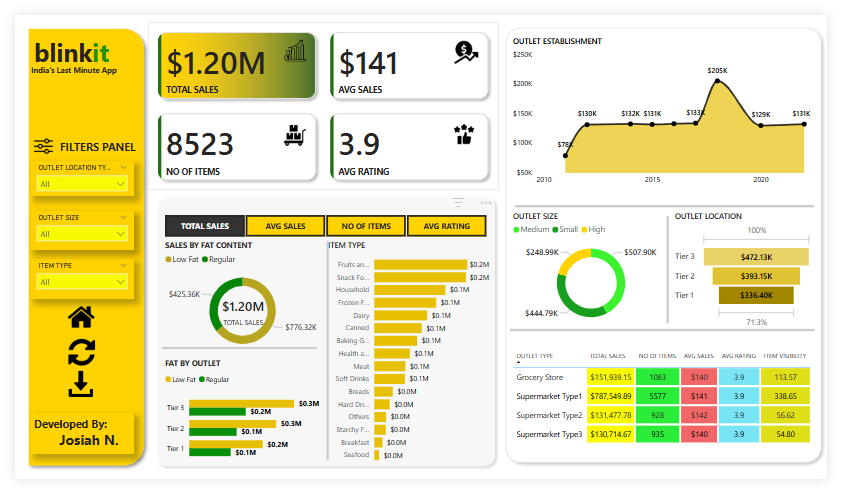

What the dashboard file says about the page in this screenshot:
{"tool":"powerbi","page":{"name":"Page 1","canvas":[1400,800],"ordinal":0},"visuals":[{"type":"shape","box":[11.2,11.2,221.7,775.9],"z":0},{"type":"textbox","box":[27.3,28.9,154.2,67.5],"z":1},{"type":"textbox","box":[22.5,80.3,171.9,32.1],"z":2},{"type":"cardVisual","fields":{"Data":["BlinkIT Grocery Data.TOTAL SALES","BlinkIT Grocery Data.AVG SALES","BlinkIT Grocery Data.NO OF ITEMS","BlinkIT Grocery Data.AVG RATING"]},"box":[229.7,11.2,604,290.8],"z":3},{"type":"shape","box":[232.9,302,604,485.1],"z":4},{"type":"donutChart","title":"SALES BY FAT CONTENT","fields":{"Category":["BlinkIT Grocery Data.Item Fat Content"],"Y":["BlinkIT Grocery Data.TOTAL SALES"]},"box":[253.8,388.8,277.9,202.4],"z":5},{"type":"slicer","fields":{"Values":["Metrics.Metrics"]},"box":[232.9,337.3,604,51.4],"z":6},{"type":"card","fields":{"Values":["BlinkIT Grocery Data.TOTAL SALES"]},"box":[327.7,475.5,131.7,69.1],"z":7},{"type":"clusteredBarChart","title":"FAT BY OUTLET","fields":{"Category":["BlinkIT Grocery Data.Outlet Location Type"],"Series":["BlinkIT Grocery Data.Item Fat Content"],"Y":["BlinkIT Grocery Data.TOTAL SALES"]},"box":[253.8,591.2,277.9,189.6],"z":8},{"type":"barChart","title":"ITEM TYPE","fields":{"Category":["BlinkIT Grocery Data.Item Type"],"Y":["BlinkIT Grocery Data.TOTAL SALES"]},"box":[534.9,387.1,287.6,393.6],"z":9},{"type":"shape","box":[836.9,11.2,563.9,769.5],"z":10},{"type":"lineChart","title":"OUTLET ESTABLISHMENT","fields":{"Y":["BlinkIT Grocery Data.TOTAL SALES"],"Category":["BlinkIT Grocery Data.Outlet Establishment Year"]},"box":[853,36.9,525.3,265.1],"z":11},{"type":"donutChart","title":"OUTLET SIZE","fields":{"Category":["BlinkIT Grocery Data.Outlet Size"],"Y":["BlinkIT Grocery Data.TOTAL SALES"]},"box":[853,337.3,279.5,207.2],"z":12},{"type":"funnel","title":"OUTLET LOCATION","fields":{"Category":["BlinkIT Grocery Data.Outlet Location Type"],"Y":["BlinkIT Grocery Data.TOTAL SALES"]},"box":[1132.5,337.3,245.8,207.2],"z":13},{"type":"tableEx","fields":{"Values":["BlinkIT Grocery Data.Outlet Type","BlinkIT Grocery Data.TOTAL SALES","BlinkIT Grocery Data.NO OF ITEMS","BlinkIT Grocery Data.AVG SALES","BlinkIT Grocery Data.AVG RATING","Sum(BlinkIT Grocery Data.Item Visibility)"]},"box":[853,568.7,525.3,188],"z":14},{"type":"slicer","fields":{"Values":["BlinkIT Grocery Data.Outlet Location Type"]},"box":[27.3,252.2,176.7,61],"z":15},{"type":"slicer","fields":{"Values":["BlinkIT Grocery Data.Outlet Size"]},"box":[27.3,337.3,176.7,67.5],"z":16},{"type":"slicer","fields":{"Values":["BlinkIT Grocery Data.Item Type"]},"box":[27.3,420.9,176.7,69.1],"z":17},{"type":"textbox","box":[72.3,208.8,146.2,43.4],"z":18},{"type":"image","box":[459.4,38.6,48.2,46.6],"z":19},{"type":"image","box":[751.8,38.6,53,51.4],"z":20},{"type":"image","box":[459.4,183.1,48.2,49.8],"z":21},{"type":"image","box":[751.8,183.1,45,45],"z":22},{"type":"image","box":[27.3,202.4,43.4,49.8],"z":23},{"type":"image","box":[80.3,552.6,67.5,56.2],"z":24},{"type":"image","box":[86.7,490,56.2,62.7],"z":25},{"type":"image","box":[80.3,608.8,65.9,54.6],"z":26},{"type":"textbox","box":[27.3,685.9,176.7,70.7],"z":27},{"type":"shape","box":[853,531.7,525.3,24.1],"z":28},{"type":"shape","box":[862.7,322.9,515.7,14.5],"z":29},{"type":"shape","box":[253.8,563.9,266.7,20.9],"z":30},{"type":"shape","box":[531.7,390.4,16.1,377.5],"z":31},{"type":"shape","box":[1116.5,347,16.1,184.7],"z":32}]}

Visuals, with their boxes in screenshot pixels (x1, y1, x2, y2), scaled from the page's 1400x800 canvas onto the 851x494 screenshot:
shape: BBox(7, 7, 142, 486)
textbox: BBox(17, 18, 110, 60)
textbox: BBox(14, 50, 118, 69)
cardVisual - BlinkIT Grocery Data.TOTAL SALES x BlinkIT Grocery Data.AVG SALES: BBox(140, 7, 507, 186)
shape: BBox(142, 186, 509, 486)
"SALES BY FAT CONTENT" donutChart: BBox(154, 240, 323, 365)
slicer - Metrics.Metrics: BBox(142, 208, 509, 240)
card - BlinkIT Grocery Data.TOTAL SALES: BBox(199, 294, 279, 336)
"FAT BY OUTLET" clusteredBarChart: BBox(154, 365, 323, 482)
"ITEM TYPE" barChart: BBox(325, 239, 500, 482)
shape: BBox(509, 7, 850, 482)
"OUTLET ESTABLISHMENT" lineChart: BBox(519, 23, 838, 186)
"OUTLET SIZE" donutChart: BBox(519, 208, 688, 336)
"OUTLET LOCATION" funnel: BBox(688, 208, 838, 336)
tableEx - BlinkIT Grocery Data.Outlet Type x BlinkIT Grocery Data.TOTAL SALES: BBox(519, 351, 838, 467)
slicer - BlinkIT Grocery Data.Outlet Location Type: BBox(17, 156, 124, 193)
slicer - BlinkIT Grocery Data.Outlet Size: BBox(17, 208, 124, 250)
slicer - BlinkIT Grocery Data.Item Type: BBox(17, 260, 124, 303)
textbox: BBox(44, 129, 133, 156)
image: BBox(279, 24, 309, 53)
image: BBox(457, 24, 489, 56)
image: BBox(279, 113, 309, 144)
image: BBox(457, 113, 484, 141)
image: BBox(17, 125, 43, 156)
image: BBox(49, 341, 90, 376)
image: BBox(53, 303, 87, 341)
image: BBox(49, 376, 89, 410)
textbox: BBox(17, 424, 124, 467)
shape: BBox(519, 328, 838, 343)
shape: BBox(524, 199, 838, 208)
shape: BBox(154, 348, 316, 361)
shape: BBox(323, 241, 333, 474)
shape: BBox(679, 214, 688, 328)
